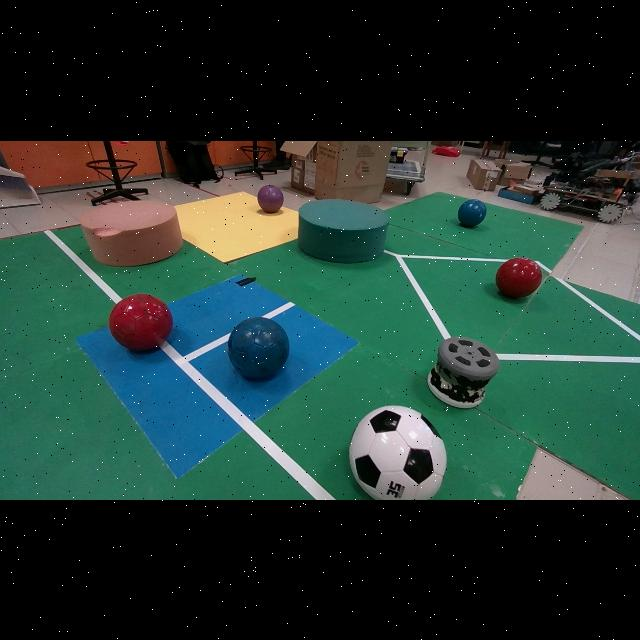B: (227, 316, 289, 379), (458, 198, 487, 226)
P: (257, 184, 283, 212)
R: (108, 293, 173, 350), (496, 258, 541, 298)
